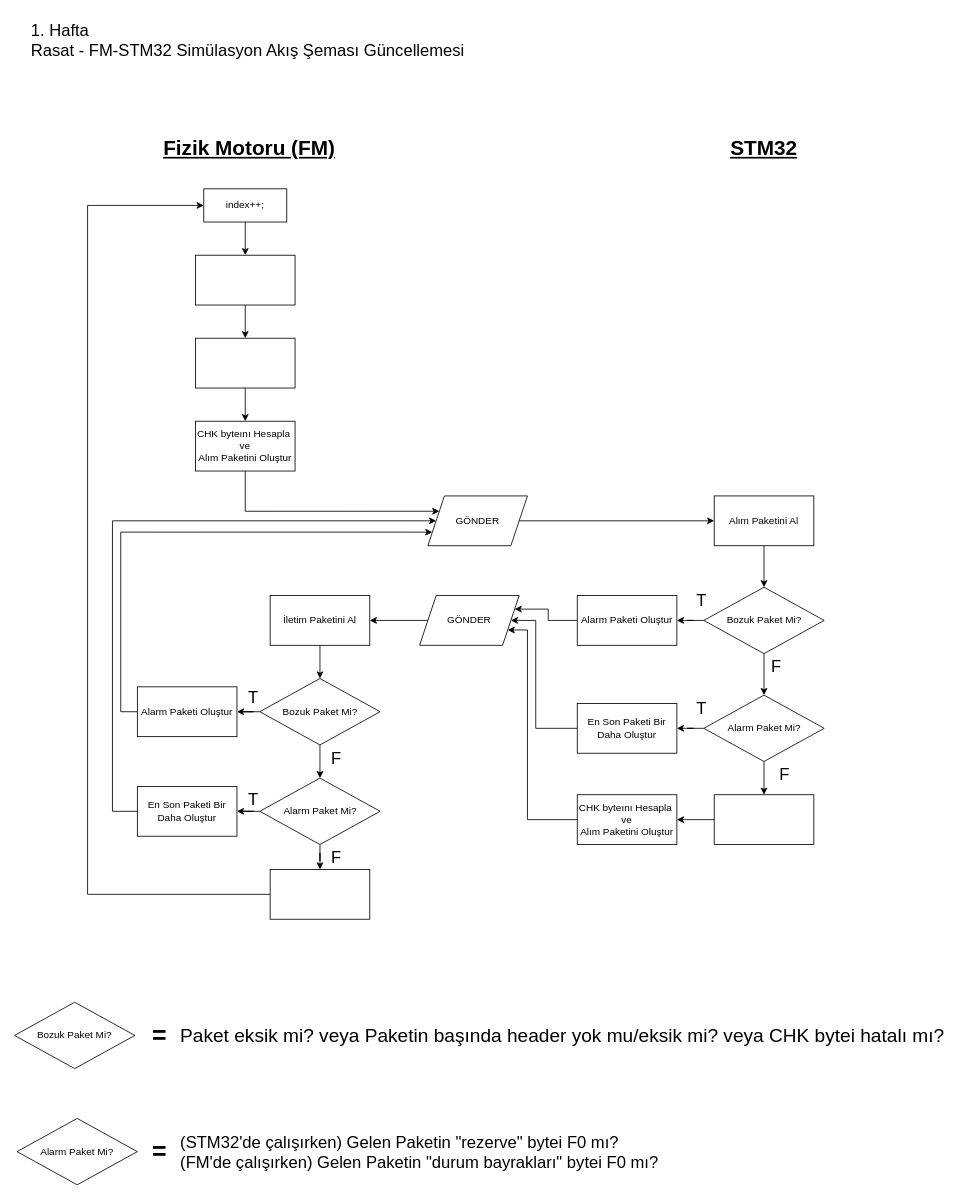
The diagram is 976 pixels wide and 1199 high, and some of its shapes have lost their labels. The centre of each missing label's shape, as x and y in pixels:
"Gerçek Değerleri Hesapla" belongs at [245,279].
"Sanal Sensör Verilerini Üret" belongs at [245,362].
"Sistem Davranışını Hesapla" belongs at [763,819].
"Sistem Davranışını Uygula" belongs at [319,894].
